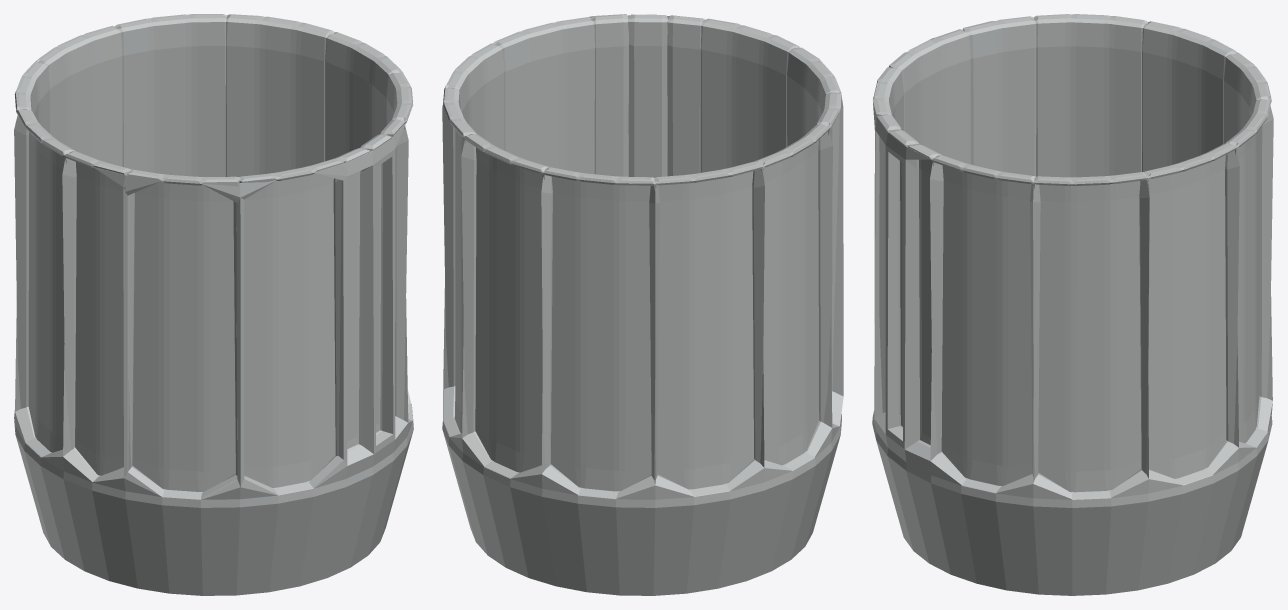
File: scene1end.glb
3 renders of one model, left to right at view 1: azimuth 30°, elevation 25°; view 2: azimuth 150°, elevation 25°; view 3: azimuth 270°, elevation 25°, orthographic.
Visible parts, largest first — view 1: Circle; view 2: Circle; view 3: Circle.
Boxes of the visible parts, bbox=[...] form: Circle: bbox=[14, 14, 413, 595]; Circle: bbox=[442, 14, 843, 595]; Circle: bbox=[872, 14, 1273, 595].
Size of the model in its own units: 1.28 by 1.51 by 1.29.
1 material, 1 textured.
